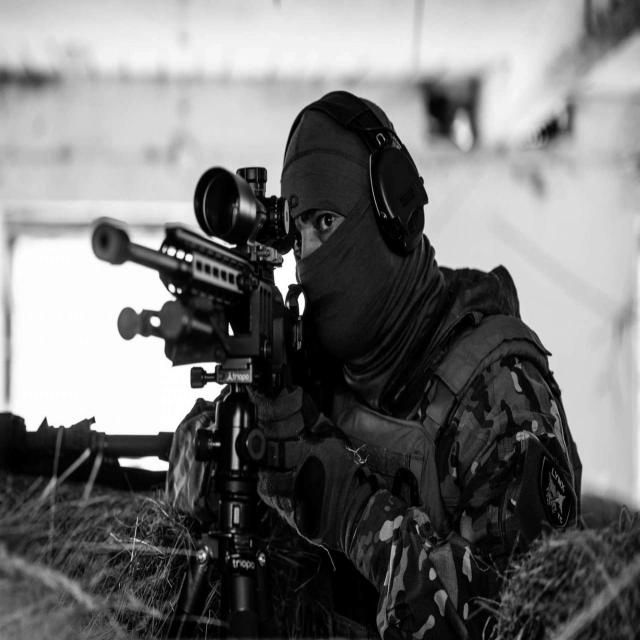Sniper: (75, 160, 298, 634)
